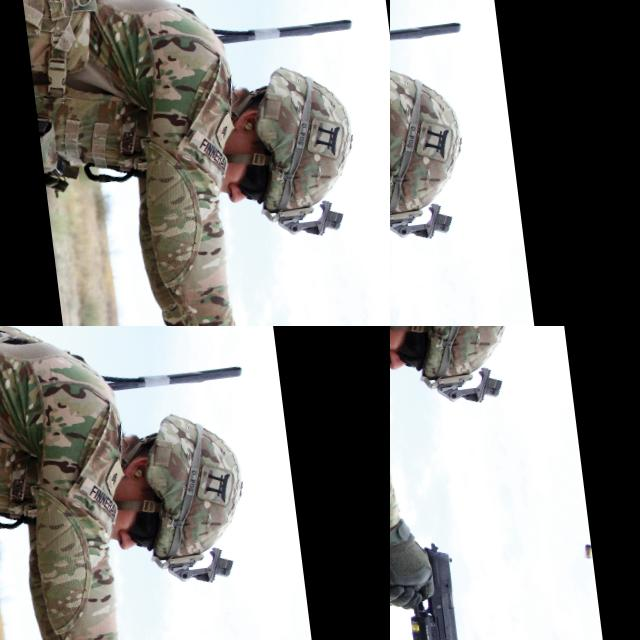handgun: (402, 539, 465, 640), (186, 326, 235, 360), (339, 0, 365, 17), (434, 0, 450, 6)
